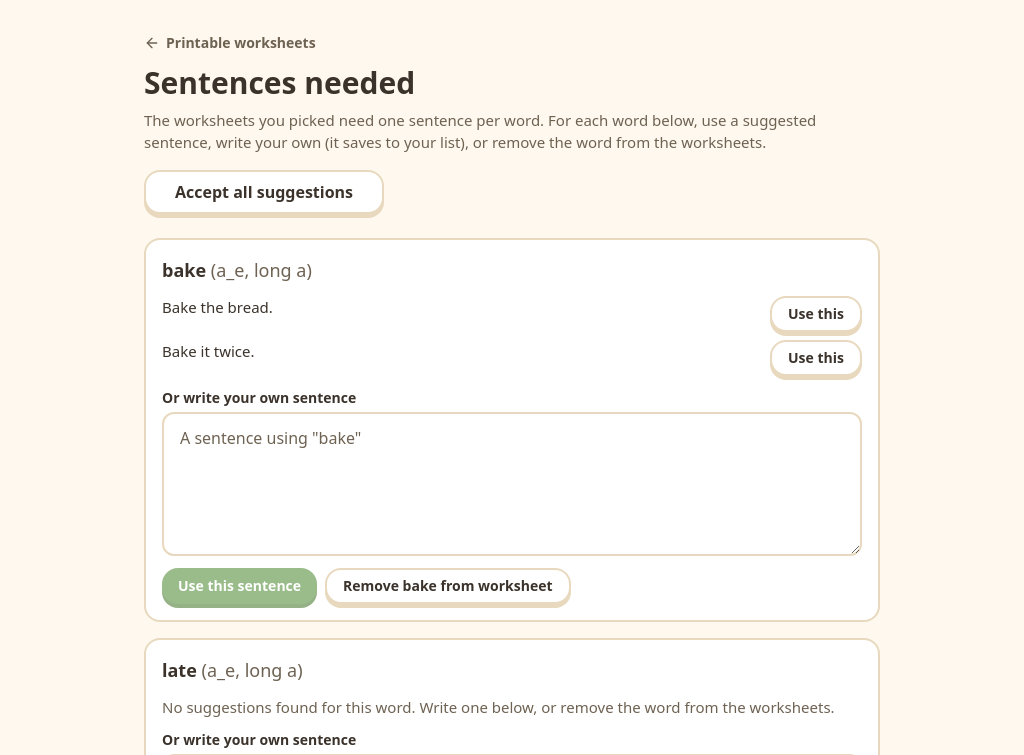
it: WorksheetsPrintPage › sentence gap flow › fills the first suggestion for words that have one and skips words without
Expected: the heading "Sentences needed" is shown, [144,62,415,102]
Click the button "Accept all suggestions": x=264, y=192 [144,170,384,214]
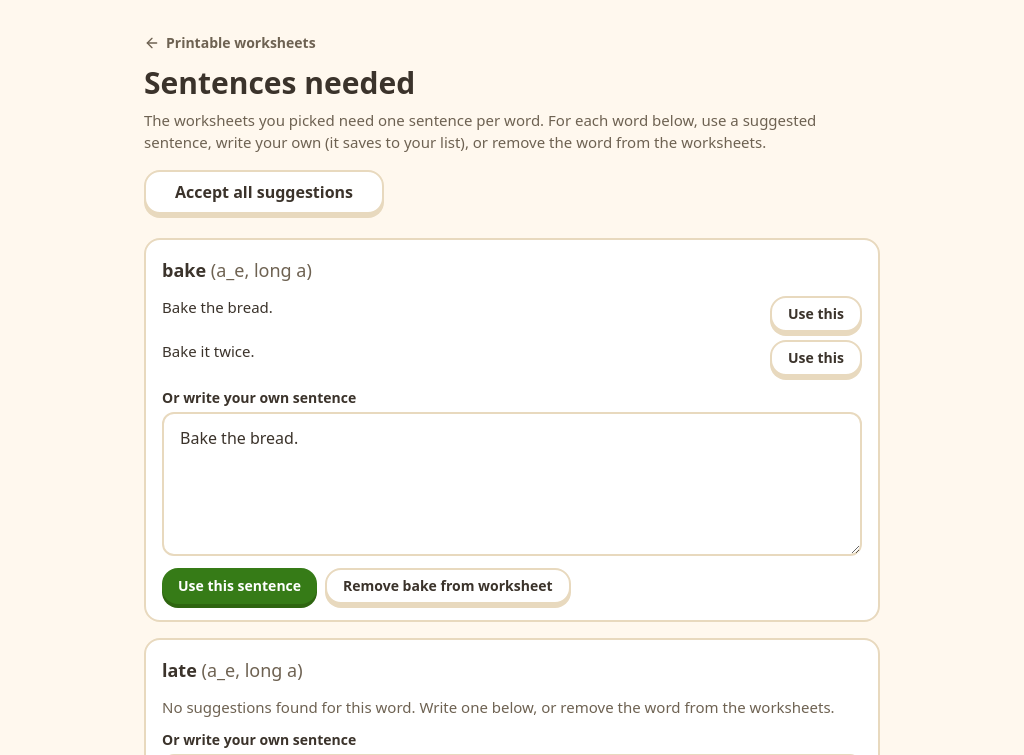
Expected: the heading "Sentences needed" is shown, [144,62,415,102]
Expected: the text box labelled "Or write your own sentence" below "Bake it twice." holds "Bake the bread.", [162,412,862,556]
